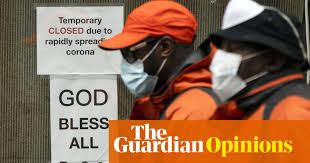masked: (203, 5, 306, 106), (106, 3, 197, 96)
